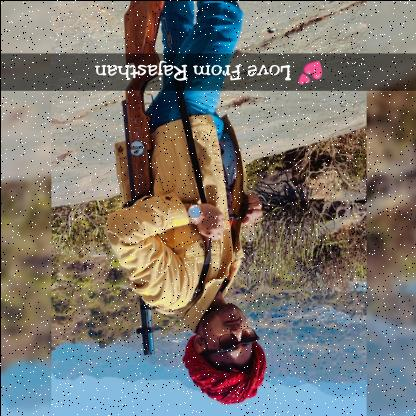rifle: (118, 0, 165, 356)
